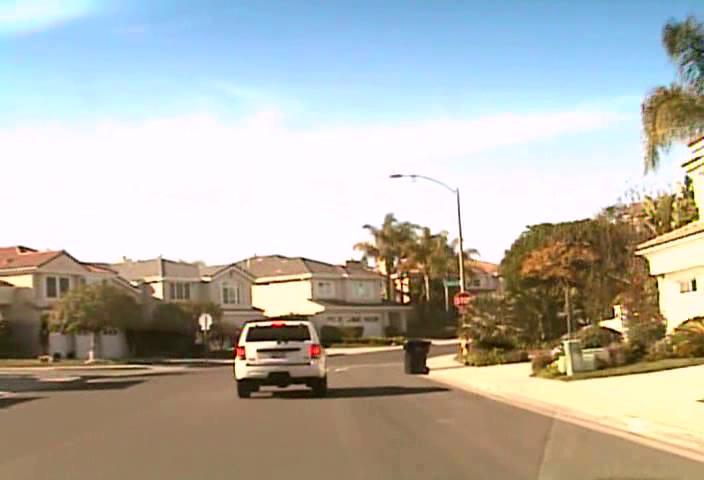stop: (452, 290, 473, 310)
